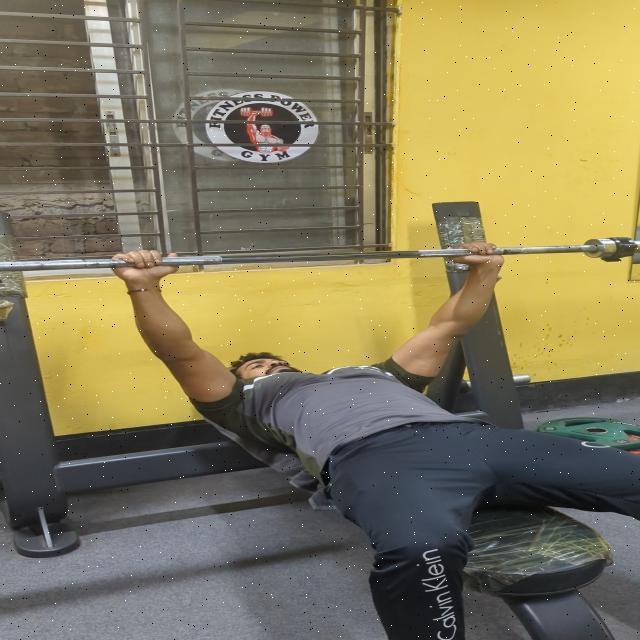Normal_BrenchPress: (63, 219, 640, 640)
